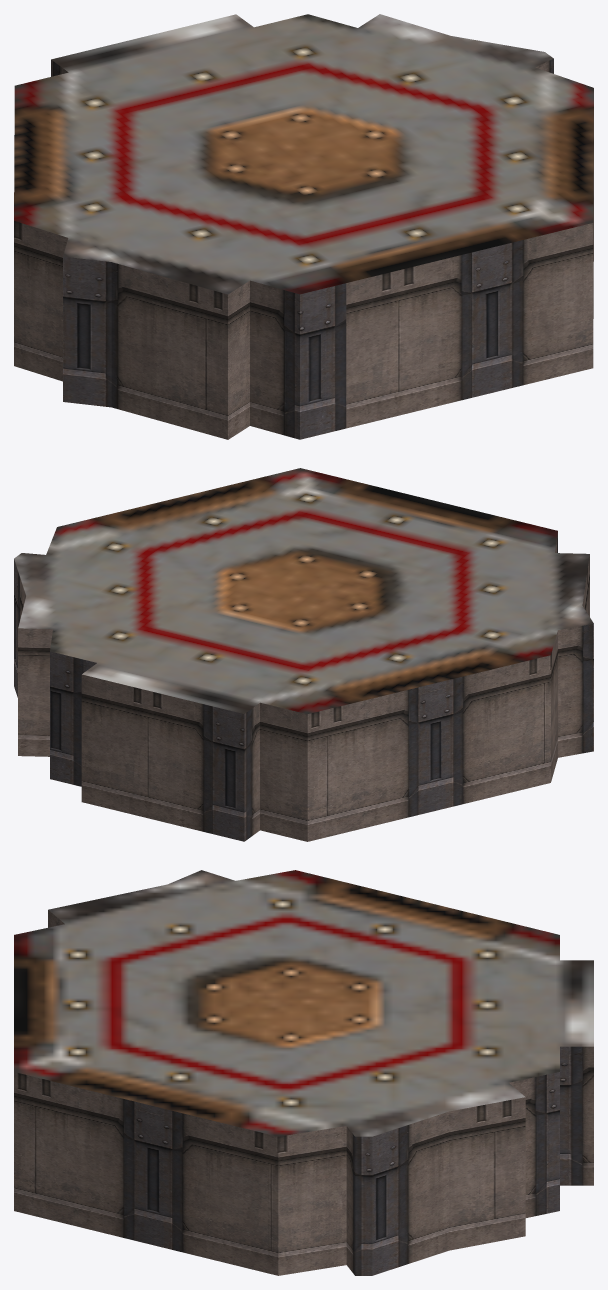
Rendered from bsealed_medium_a_19.glb.
3 views of the same model, one above another, from view 1: azimuth 30°, elevation 25°; view 2: azimuth 150°, elevation 25°; view 3: azimuth 270°, elevation 25° (orthographic). The views are drawn at different scales.
Visible parts, largest first — view 1: buildings/saxarba/bsealed_medium/bsealed_medium_a_19; view 2: buildings/saxarba/bsealed_medium/bsealed_medium_a_19; view 3: buildings/saxarba/bsealed_medium/bsealed_medium_a_19.
Part boxes in pixels (x1,y1,x2,y2): buildings/saxarba/bsealed_medium/bsealed_medium_a_19: [14, 14, 593, 439]; buildings/saxarba/bsealed_medium/bsealed_medium_a_19: [14, 468, 593, 841]; buildings/saxarba/bsealed_medium/bsealed_medium_a_19: [14, 870, 593, 1275].
Bounding box in the file's own units: 74 × 18 × 68.
